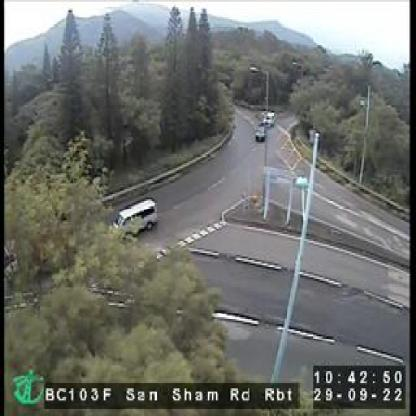Car: (102, 196, 164, 232), (262, 111, 280, 130), (252, 124, 267, 146)
